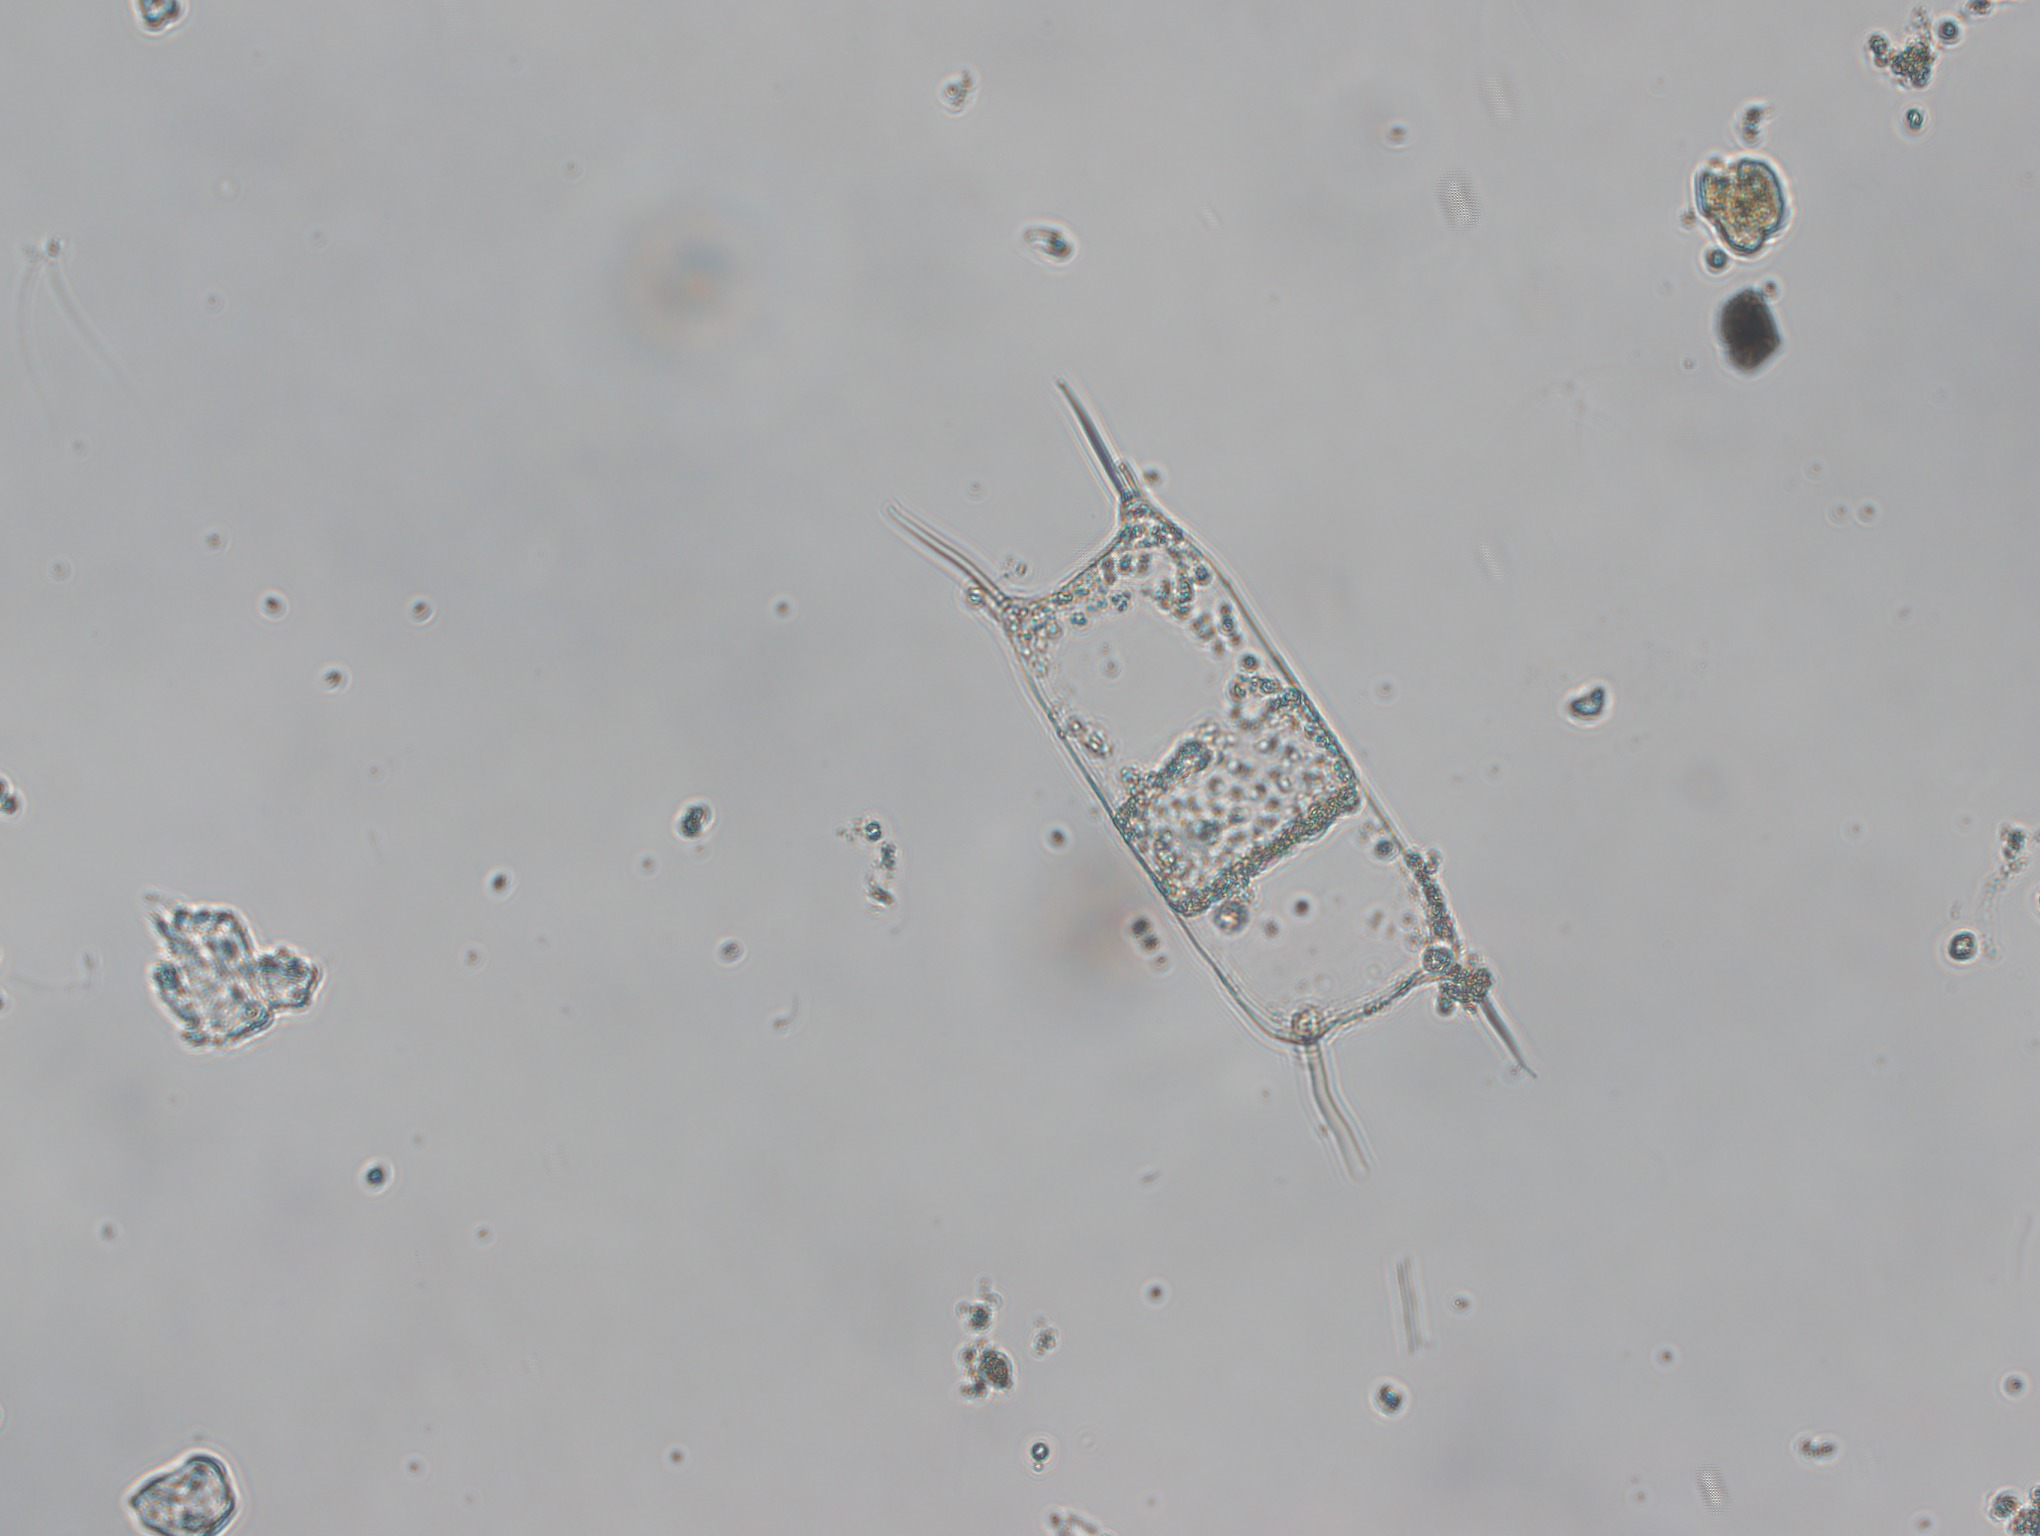biddulphia: (892, 374, 1543, 1160)
